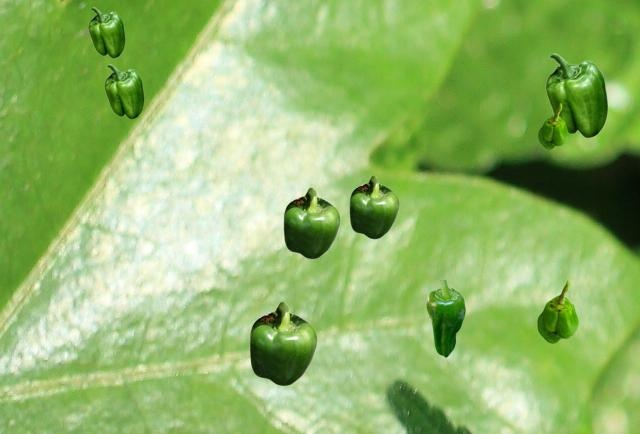bell_pepper: (249, 301, 316, 385), (545, 53, 607, 137), (283, 187, 339, 258), (349, 175, 398, 238), (426, 280, 464, 356), (537, 279, 577, 342), (104, 64, 143, 118), (88, 7, 124, 57), (538, 103, 567, 148)
